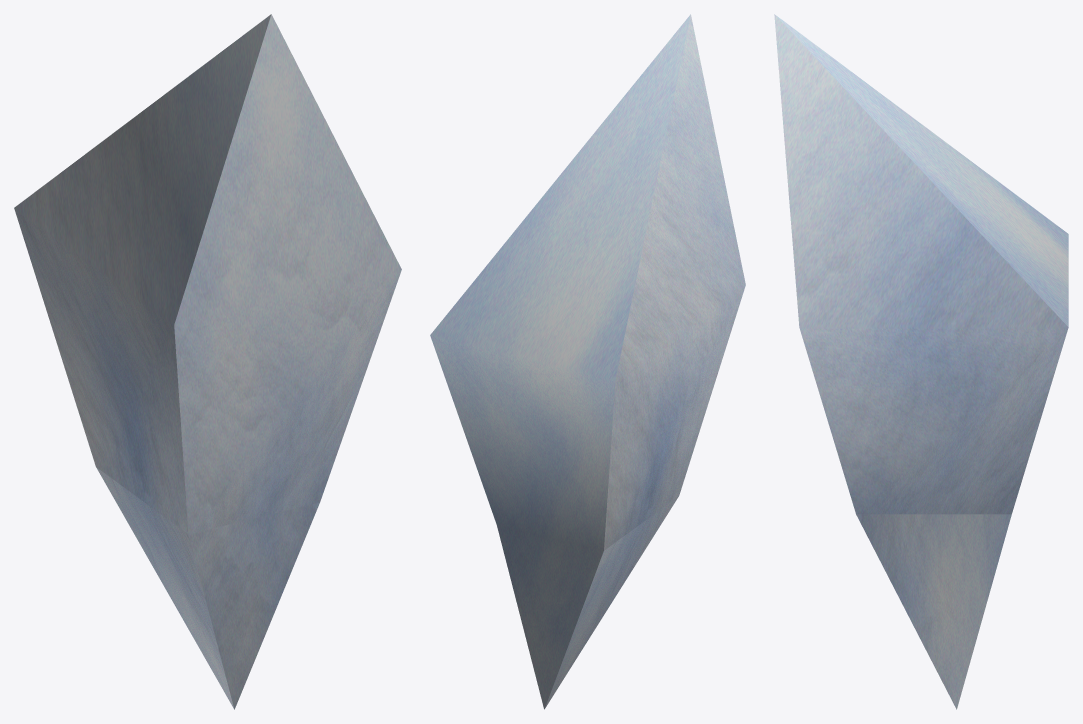
Rendered from crystal1.fbx.
The picture shows the model from 3 angles, left to right: view 1: azimuth 30°, elevation 25°; view 2: azimuth 150°, elevation 25°; view 3: azimuth 270°, elevation 25°; orthographic projection. The views are drawn at different scales.
Parts seen in each view (by area): view 1: pCube1; view 2: pCube1; view 3: pCube1.
Part boxes in pixels (x1,y1,x2,y2): pCube1: (14,14,401,709); pCube1: (430,14,745,709); pCube1: (774,14,1068,709).
Size of the model in its own units: 1.8 by 5.97 by 2.39.
